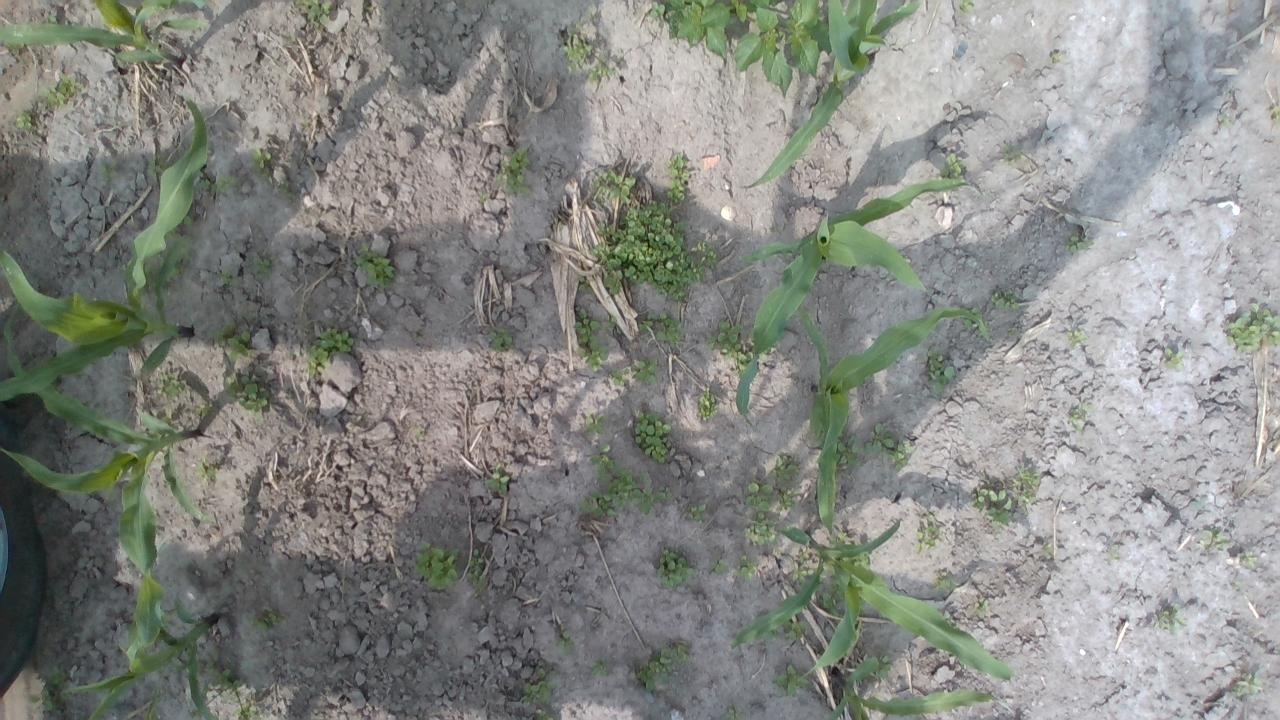Maize: (0, 306, 211, 669), (0, 95, 212, 406), (734, 179, 970, 417), (731, 519, 1014, 682), (794, 303, 989, 534), (744, 0, 921, 186), (64, 599, 218, 720), (0, 0, 209, 66), (830, 657, 1000, 720)
Weeds: (605, 197, 704, 303), (730, 0, 821, 99), (664, 0, 729, 59), (1223, 301, 1280, 354), (706, 320, 753, 378), (640, 640, 690, 690), (862, 423, 909, 475), (573, 308, 610, 373), (306, 328, 355, 377), (632, 408, 673, 465), (608, 466, 654, 514), (414, 543, 459, 591), (655, 542, 698, 591), (223, 374, 270, 418), (356, 244, 401, 289), (208, 316, 250, 364), (496, 142, 532, 197), (971, 487, 1015, 528), (40, 72, 86, 109), (592, 167, 636, 204), (205, 650, 243, 692), (558, 26, 592, 72), (743, 511, 782, 549), (771, 664, 812, 700), (575, 488, 618, 520), (664, 152, 690, 204), (1010, 468, 1040, 512), (520, 668, 556, 704), (916, 512, 946, 554), (926, 351, 954, 394), (464, 550, 488, 599), (590, 444, 617, 486), (655, 312, 685, 347), (1232, 668, 1266, 698), (247, 606, 287, 631), (295, 0, 332, 27), (156, 372, 188, 403), (835, 435, 863, 468), (250, 146, 274, 184), (744, 480, 771, 513), (1158, 603, 1186, 634), (966, 307, 992, 340), (630, 356, 658, 386), (1069, 402, 1095, 434), (484, 464, 510, 496), (772, 454, 801, 482), (731, 555, 760, 583), (233, 695, 265, 720), (487, 325, 514, 354), (28, 688, 58, 714), (991, 288, 1022, 312), (202, 175, 241, 194), (940, 152, 967, 179), (1201, 529, 1230, 552), (582, 411, 606, 438), (698, 390, 718, 422), (696, 241, 718, 270), (1064, 234, 1094, 255), (554, 626, 574, 657), (45, 664, 70, 688), (791, 560, 814, 586), (821, 590, 842, 618), (933, 571, 958, 593), (776, 487, 798, 512), (588, 61, 614, 82), (842, 552, 869, 572), (142, 260, 157, 294), (784, 620, 807, 642), (195, 460, 218, 481), (870, 656, 891, 678), (1002, 143, 1023, 165), (149, 154, 168, 178), (1065, 328, 1087, 348), (251, 254, 272, 274), (1162, 348, 1182, 369), (278, 180, 296, 203), (168, 265, 192, 282), (654, 485, 674, 505), (592, 243, 610, 265), (829, 530, 852, 547), (686, 504, 707, 522), (1240, 552, 1260, 570), (974, 600, 992, 620), (708, 558, 728, 576), (98, 160, 118, 177), (722, 706, 746, 720), (193, 402, 214, 418), (610, 368, 628, 386), (591, 658, 608, 677), (15, 110, 32, 129), (180, 236, 193, 260), (120, 256, 131, 282), (649, 1, 665, 18), (576, 278, 593, 294), (763, 625, 780, 641), (959, 0, 974, 16), (596, 222, 610, 238), (169, 656, 183, 672), (638, 320, 654, 334), (534, 709, 554, 720), (1218, 111, 1232, 126), (758, 346, 772, 360), (163, 229, 178, 242), (1190, 498, 1206, 510), (222, 272, 236, 284), (182, 212, 194, 226), (1042, 542, 1054, 556), (1110, 544, 1120, 560), (1272, 105, 1280, 124), (41, 15, 57, 24), (942, 612, 954, 624), (150, 688, 160, 702), (586, 4, 596, 17), (414, 428, 424, 439), (1006, 327, 1017, 337), (478, 191, 488, 202), (190, 709, 200, 720), (798, 551, 808, 562), (608, 316, 616, 329), (1050, 53, 1060, 63)
